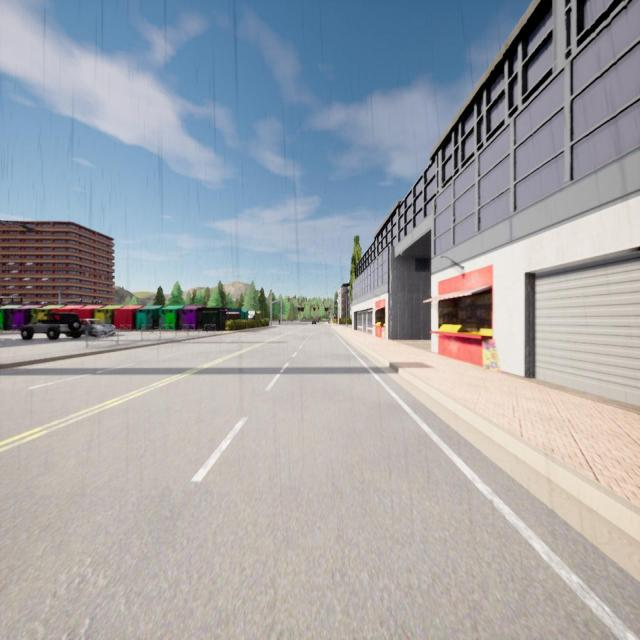Vehicle: (21, 312, 80, 340), (80, 319, 116, 338), (312, 320, 316, 325)
traffic_light: (298, 299, 298, 302), (288, 298, 288, 302)
